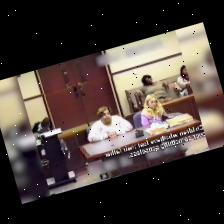person: (87, 107, 132, 142), (136, 75, 171, 103), (140, 94, 165, 126), (176, 66, 189, 97), (37, 118, 51, 133), (31, 122, 40, 133)
